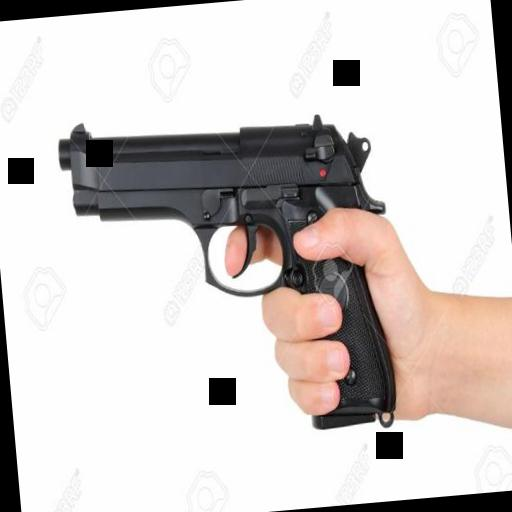Handgun: (52, 94, 404, 454)
